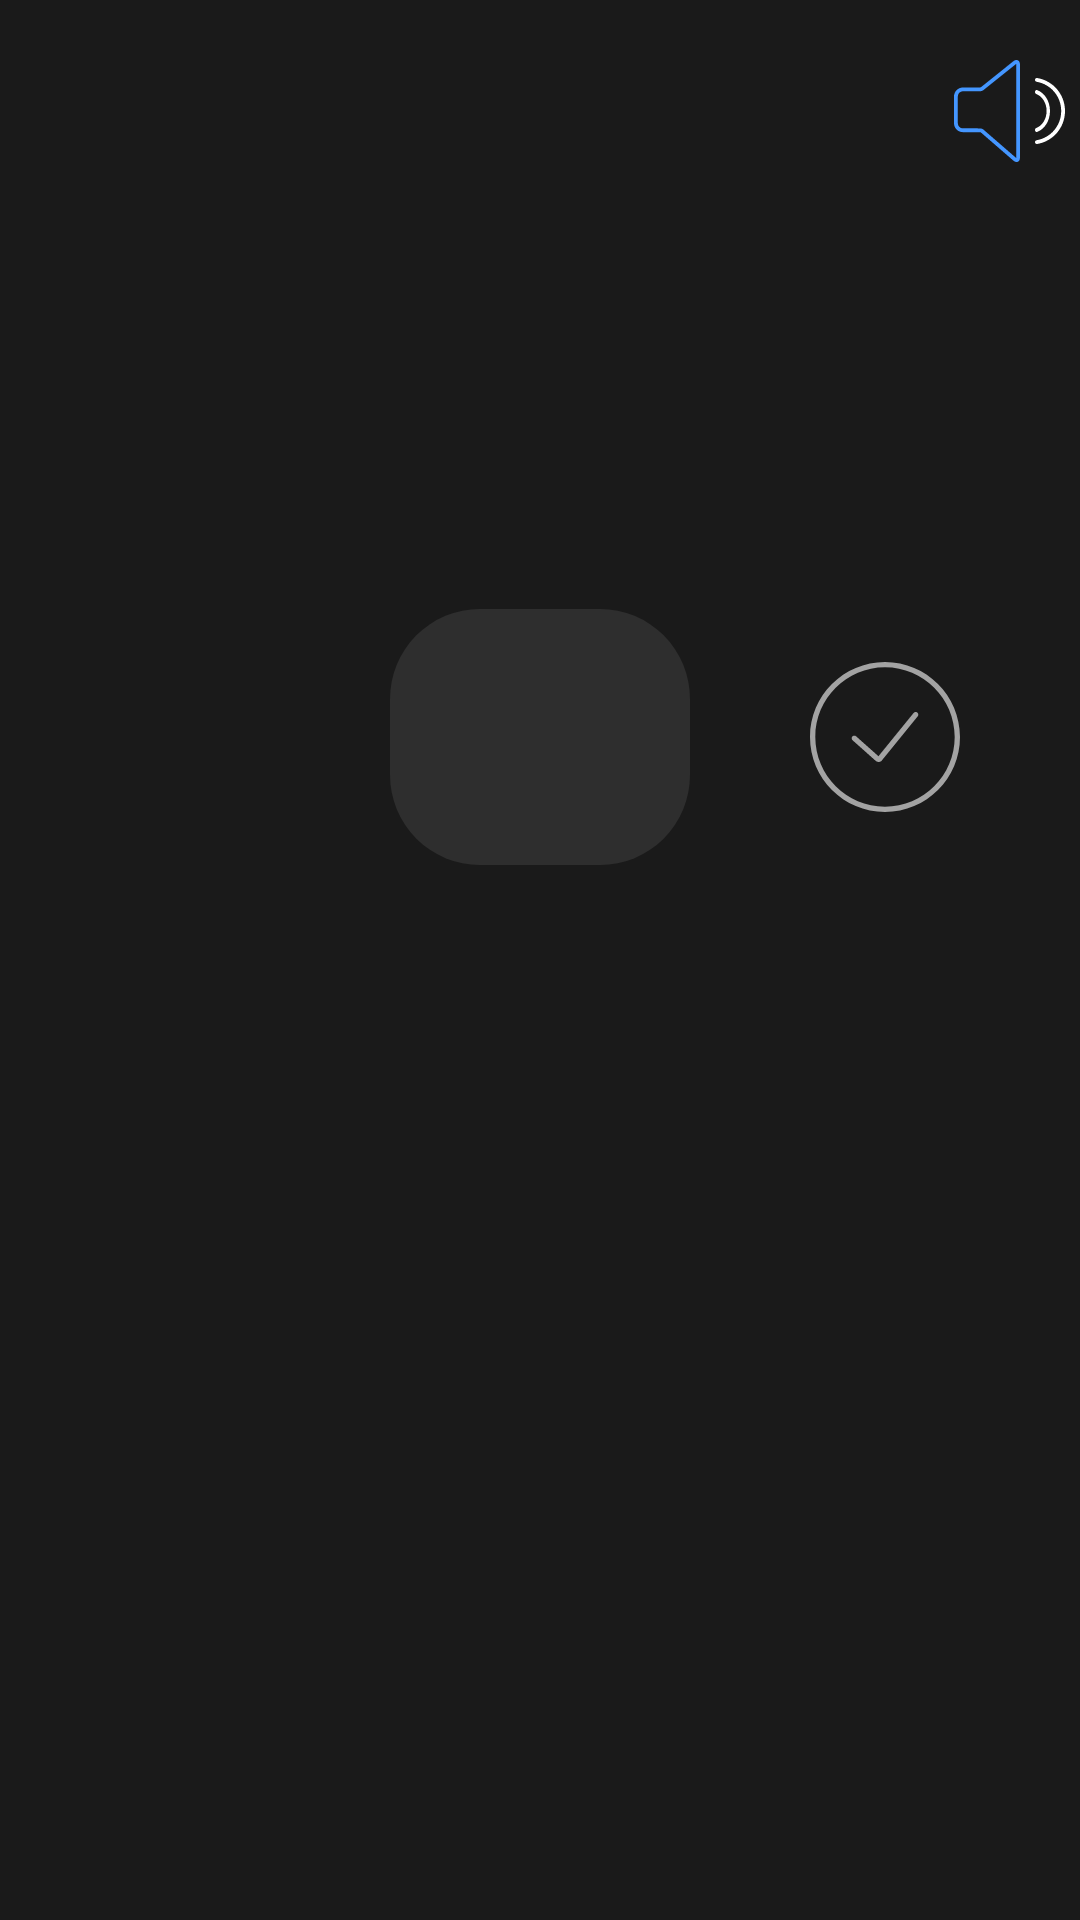

Named icons in this screenshot (1080 x 1920) and their centers, (x=x, y=y):
speaker: (x=987, y=111)
